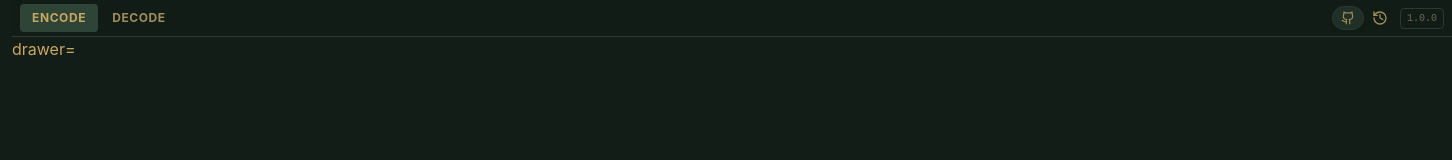
Test: Header › opens the changelog drawer from the desktop button
The image size is (1452, 160).
Expected: the text "drawer=" is shown, [12,39,76,59]
Click the button named "Changelog" at (1380, 18), box [1366,4,1394,32]
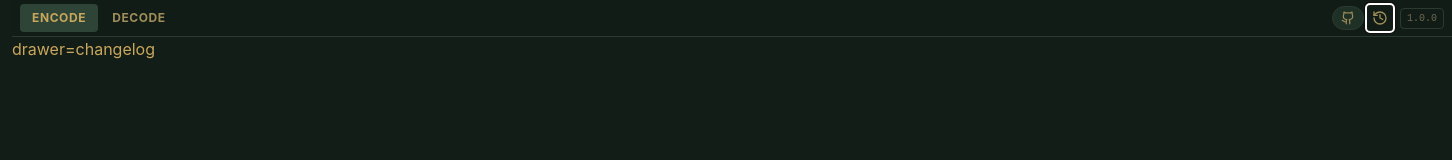
Result: the text "drawer=changelog" is shown at [12,39,155,59]
